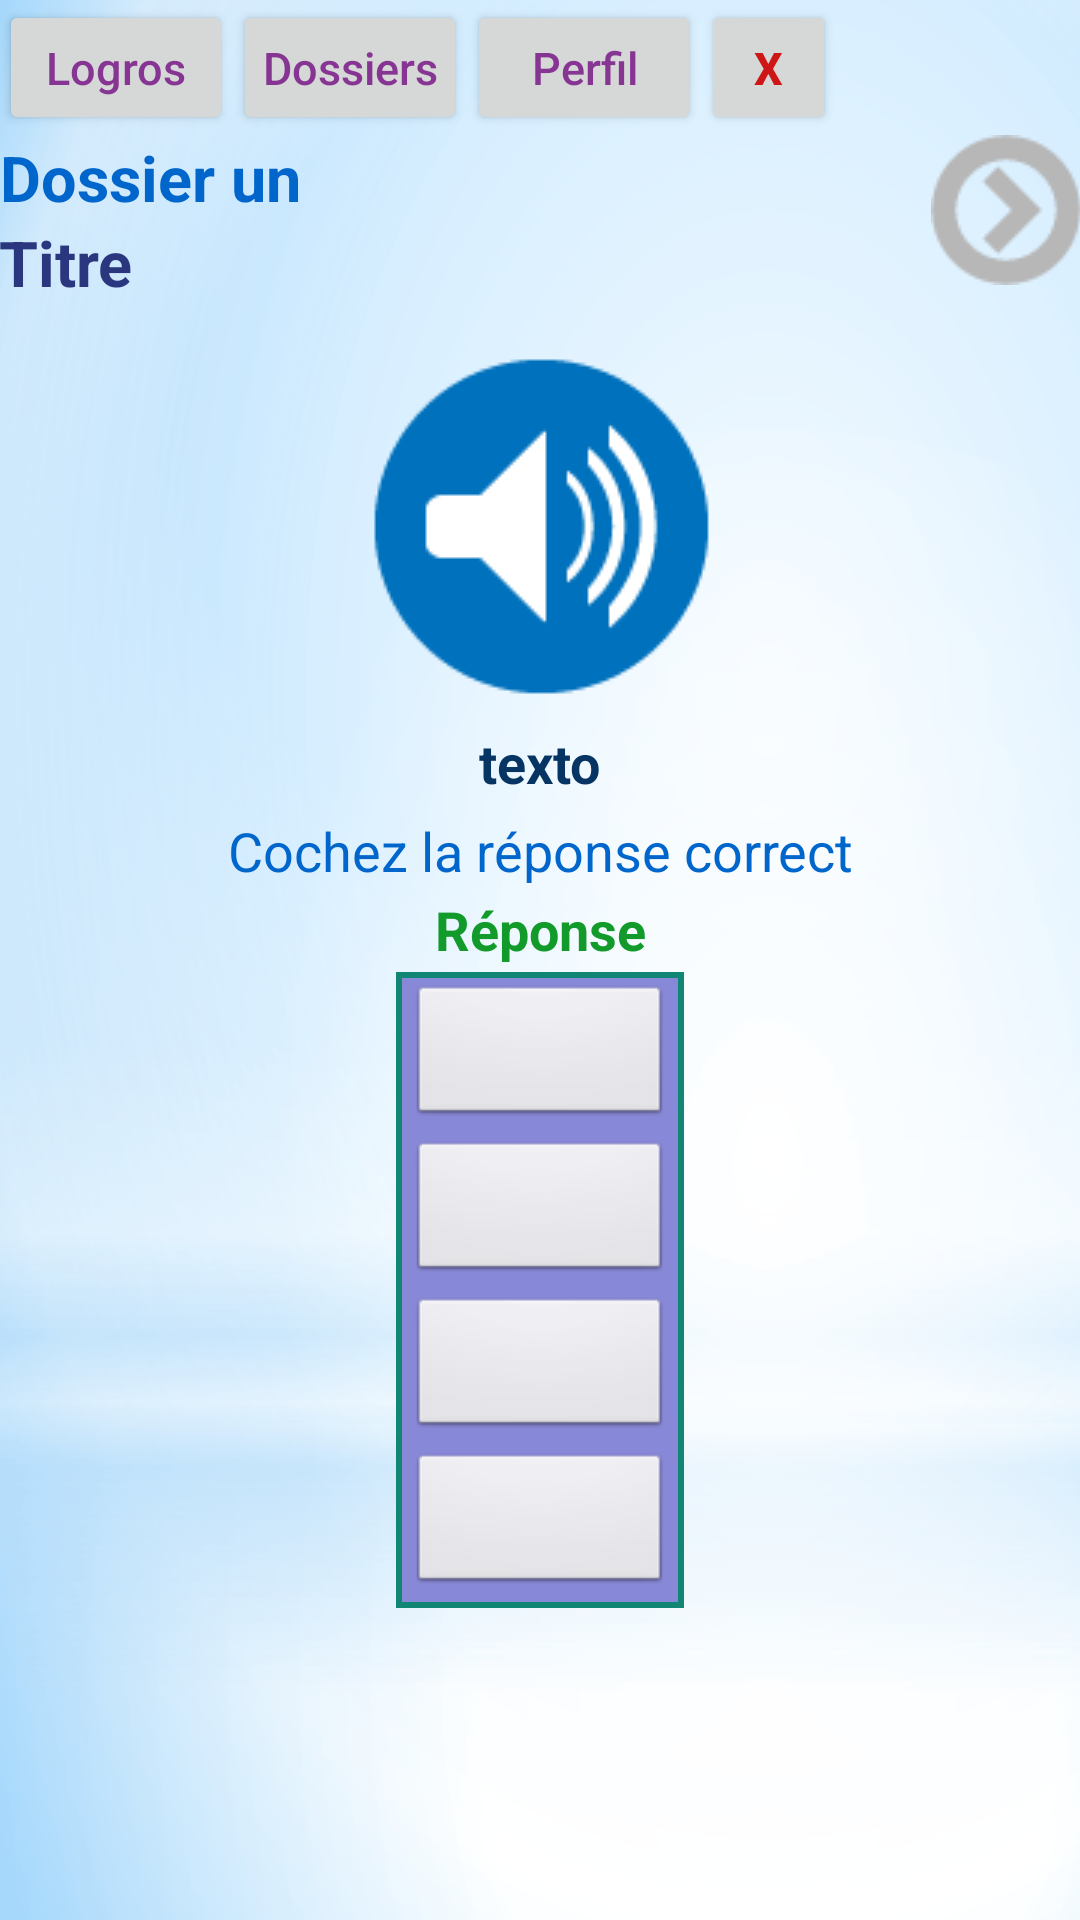

Where icons sit on this 1080x1920 app screen, as detection(x1, y1, x2, y2):
audio: detection(360, 345, 709, 705)
siguiente: detection(931, 135, 1080, 285)
